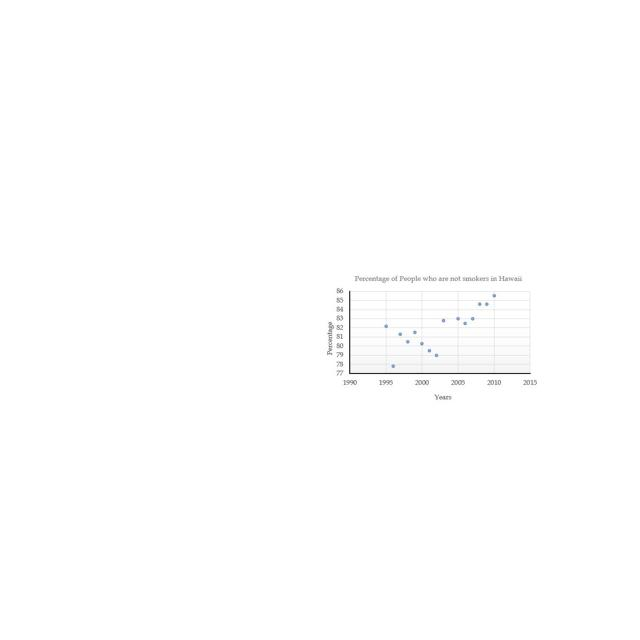Graph: (322, 271, 542, 405)
